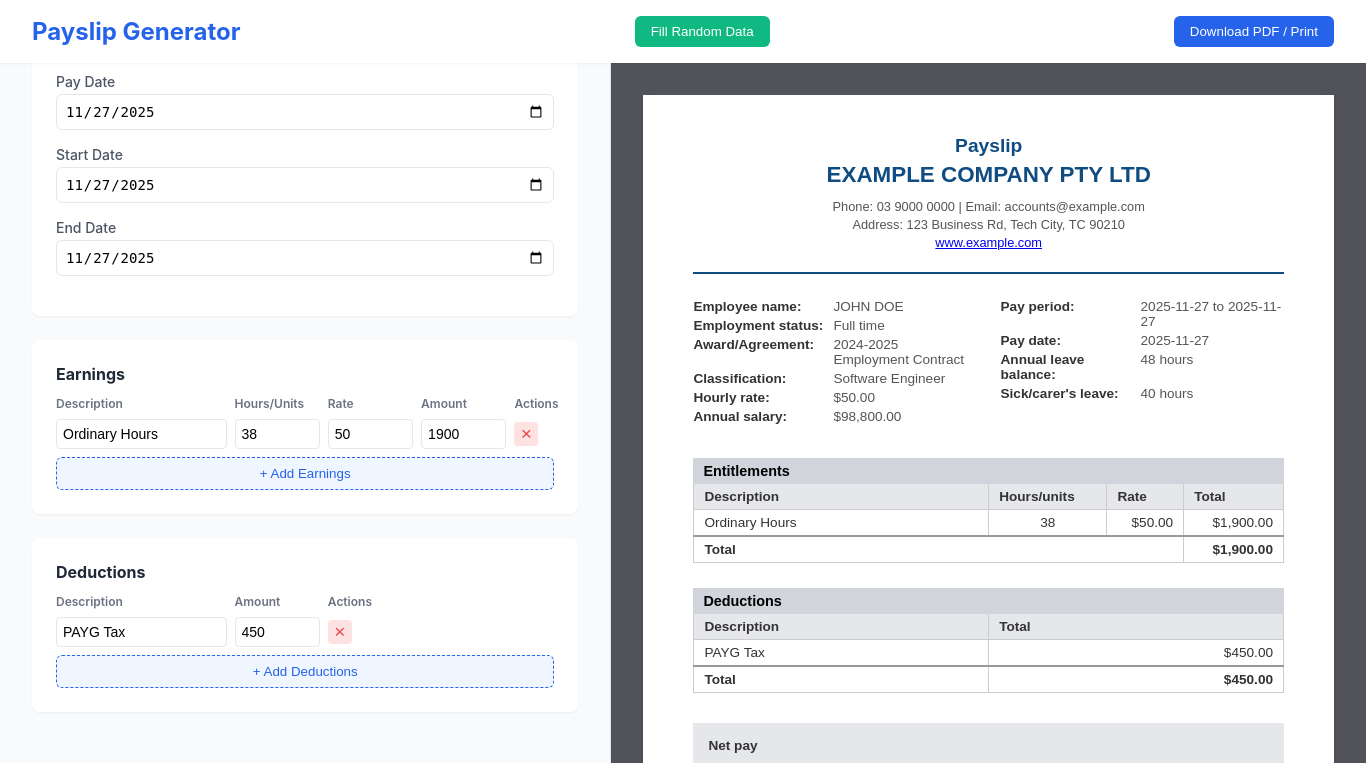
Test: App Component › adds a new earning item
The image size is (1366, 763).
(page scrolled)
Click the button "+ Add Earnings" at (305, 474), box [56,457,554,490]
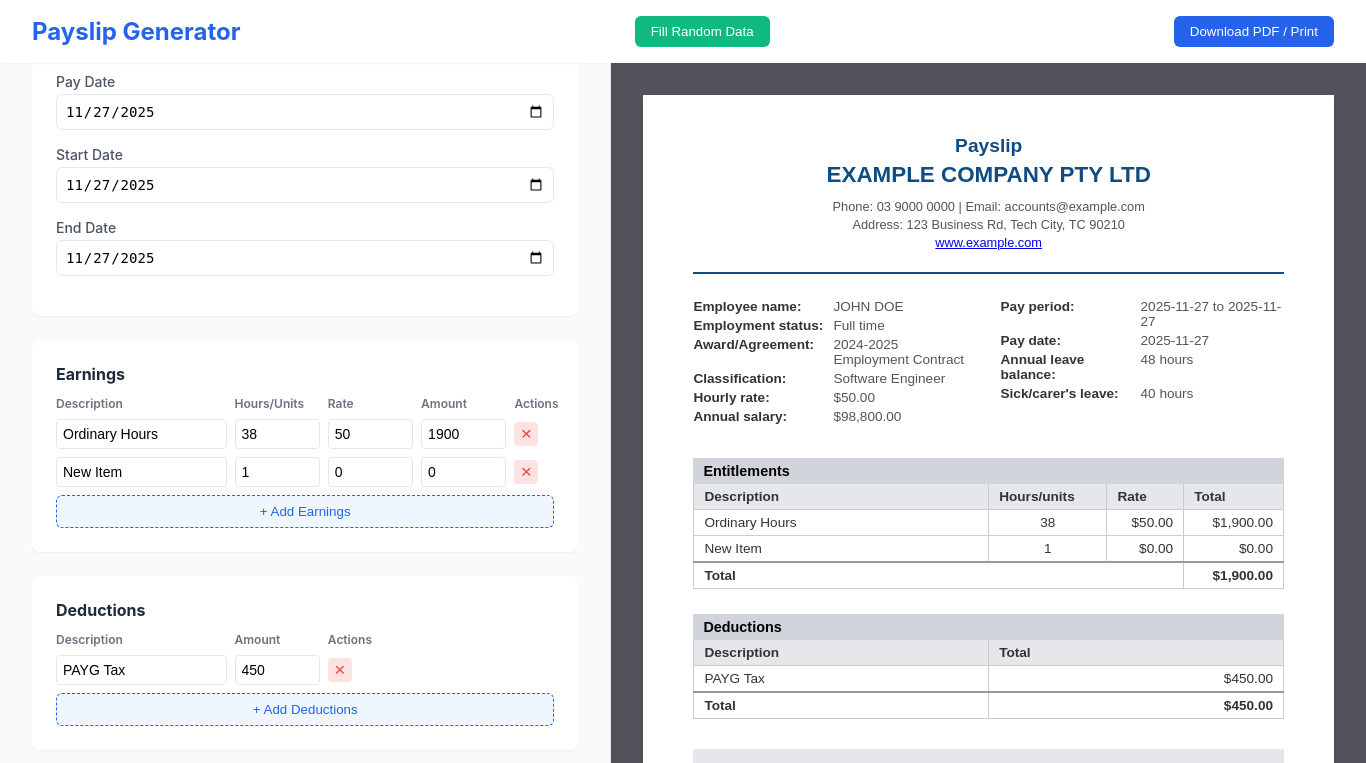
Expected: the 2nd field showing "New Item" is shown, [56,457,226,487]
